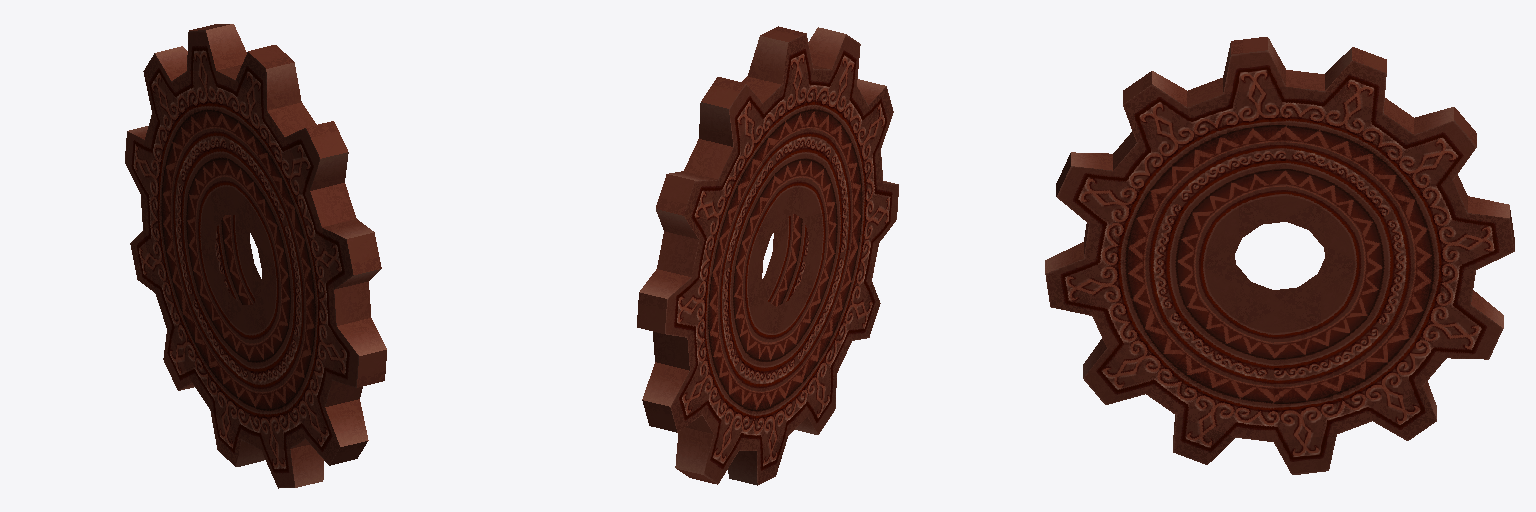
The picture shows the model from 3 angles: view 1: azimuth 30°, elevation 25°; view 2: azimuth 150°, elevation 25°; view 3: azimuth 270°, elevation 25°; orthographic projection.
Parts seen in each view (by area): view 1: rdmobj00; view 2: rdmobj00; view 3: rdmobj00.
Part boxes in pixels (x1,y1,x2,y2): rdmobj00: (125, 24, 386, 488); rdmobj00: (637, 26, 898, 485); rdmobj00: (1045, 37, 1514, 474).
Size of the model in its own units: 90.81 by 1062 by 1062.
Materials: 1 (1 with a texture image).